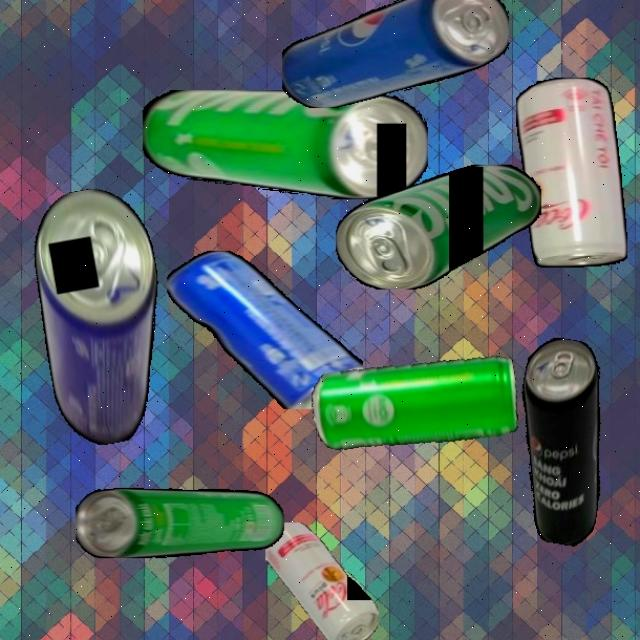debris: (21, 181, 185, 451), (142, 90, 428, 200), (167, 250, 363, 409), (306, 341, 524, 467), (498, 334, 626, 548), (336, 163, 541, 290), (281, 0, 509, 108), (516, 76, 628, 268), (76, 487, 284, 558), (265, 521, 379, 640)
